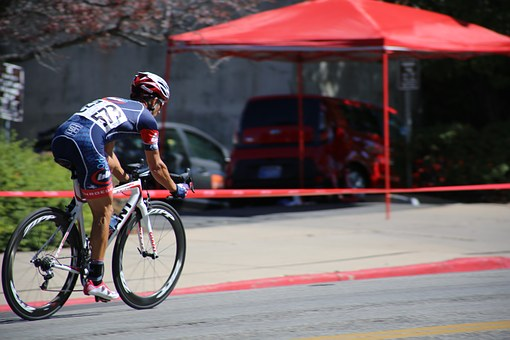bikerider: (1, 63, 199, 319)
